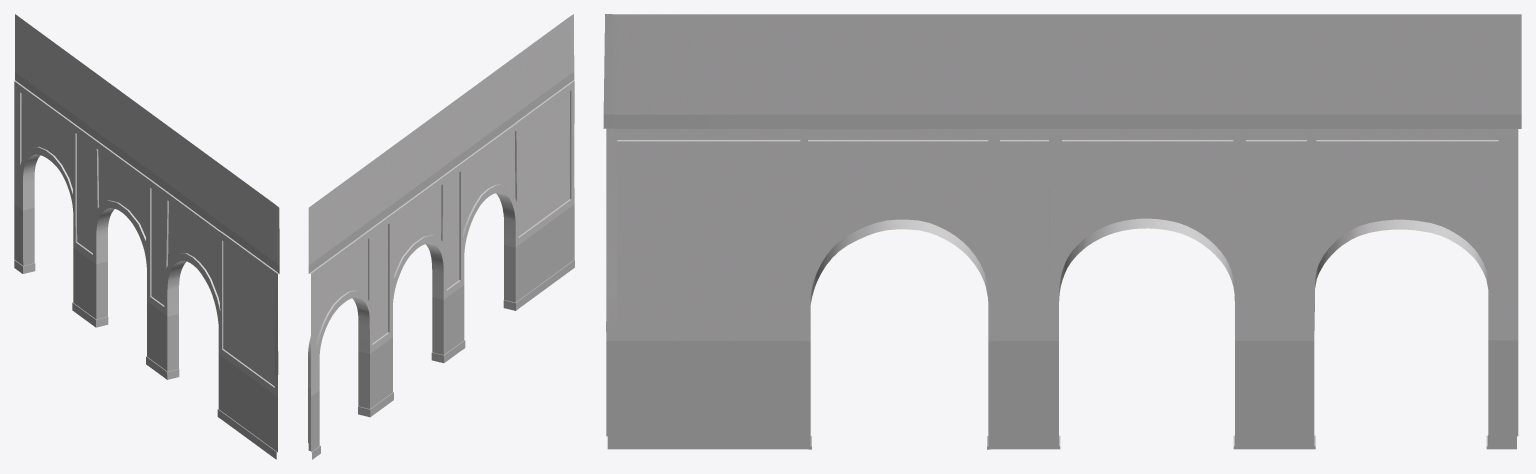
File: SM_Wall_Tiled_39_HP.fbx
3 views of the same model, side by side, from view 1: azimuth 30°, elevation 25°; view 2: azimuth 150°, elevation 25°; view 3: azimuth 270°, elevation 25° (orthographic). The views are drawn at different scales.
Visible parts, largest first — view 1: SM_Wall_Tiled_39_HP; view 2: SM_Wall_Tiled_39_HP; view 3: SM_Wall_Tiled_39_HP.
Part boxes in pixels (x1,y1,x2,y2): SM_Wall_Tiled_39_HP: [14, 14, 279, 459]; SM_Wall_Tiled_39_HP: [308, 14, 574, 459]; SM_Wall_Tiled_39_HP: [603, 14, 1521, 449].
Bounding box in the file's own units: 38.98 × 1453 × 764.
